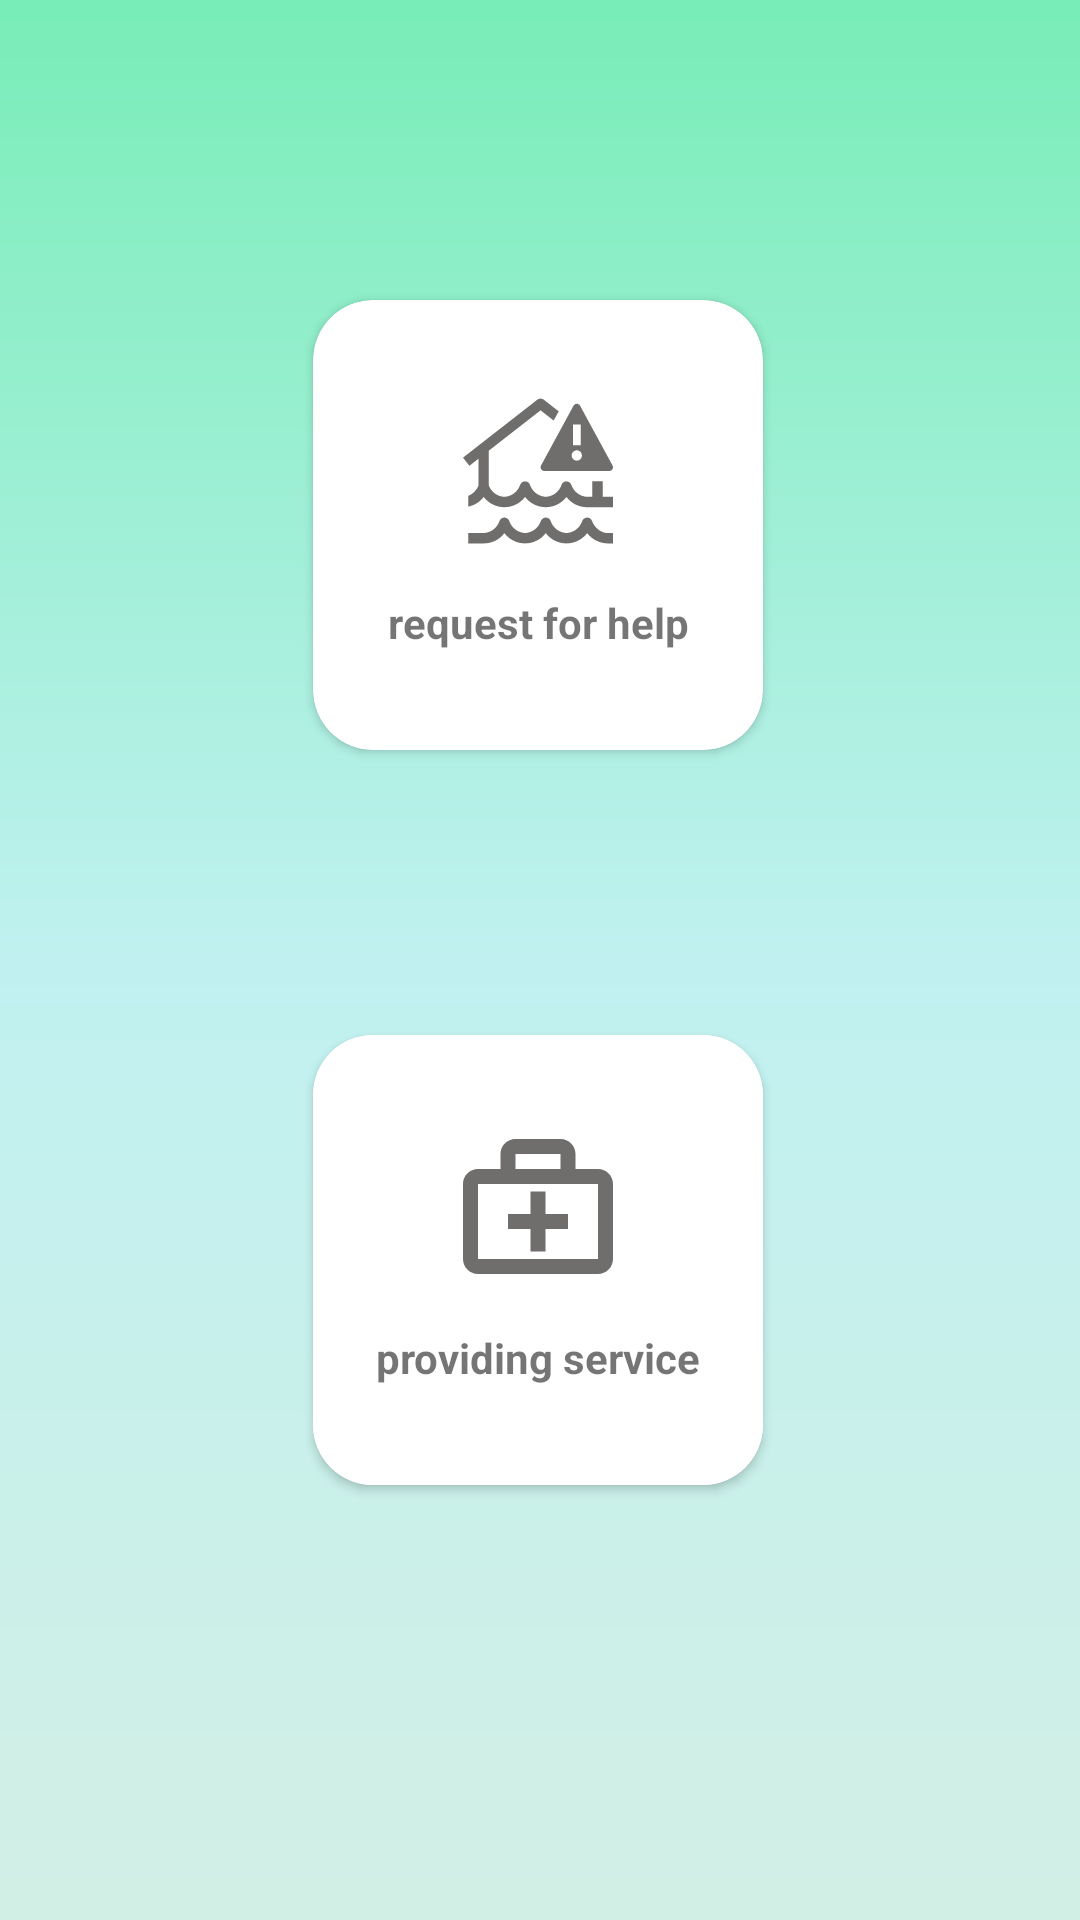

Screen size 1080w x 1920h. Icon name, then its center in pixels as [x,y]:
services 33ic: [538,1206]
victim 32ic: [538,471]
